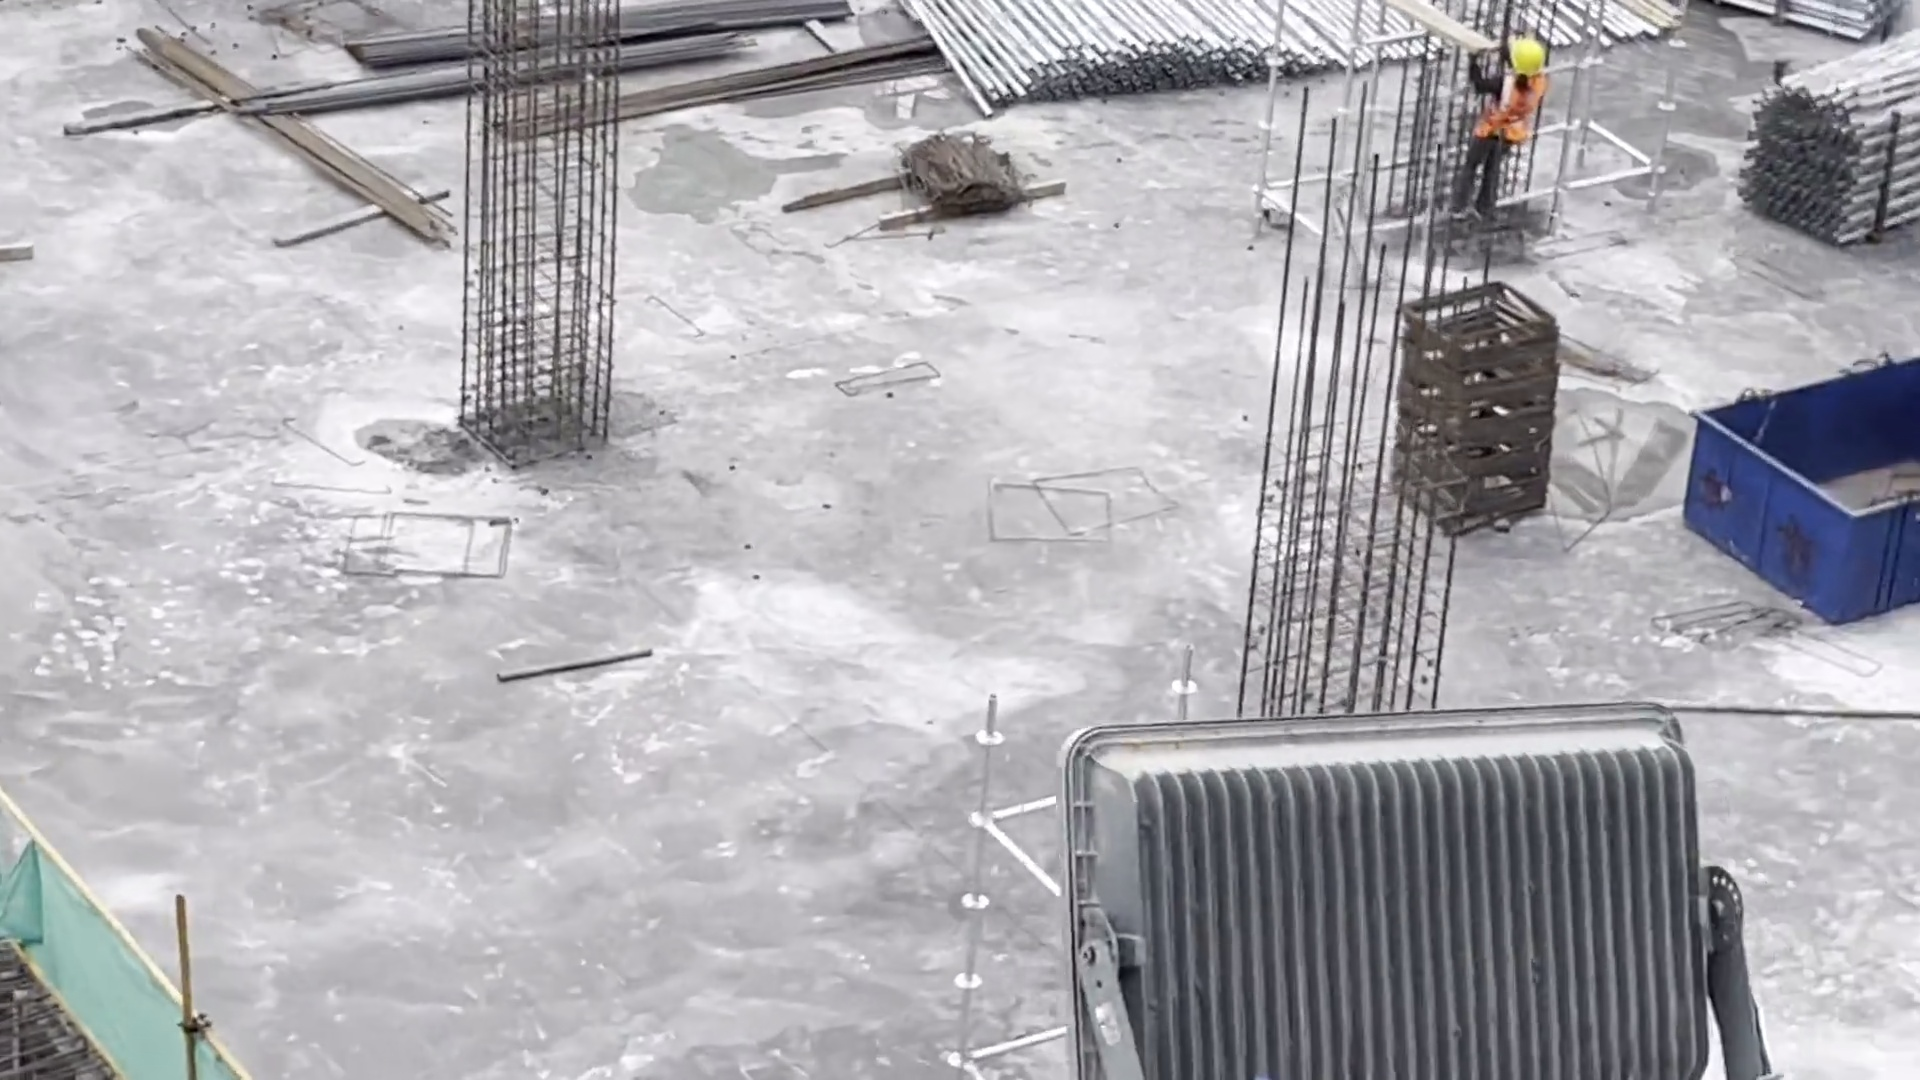helmet: (1508, 34, 1547, 78)
hopper: (1681, 354, 1920, 623)
person: (1454, 28, 1560, 226)
rebar: (511, 43, 930, 157), (237, 39, 744, 126), (352, 1, 838, 68)
scaffold: (900, 1, 1497, 122), (1725, 44, 1920, 256)
vest: (1475, 71, 1537, 156)
